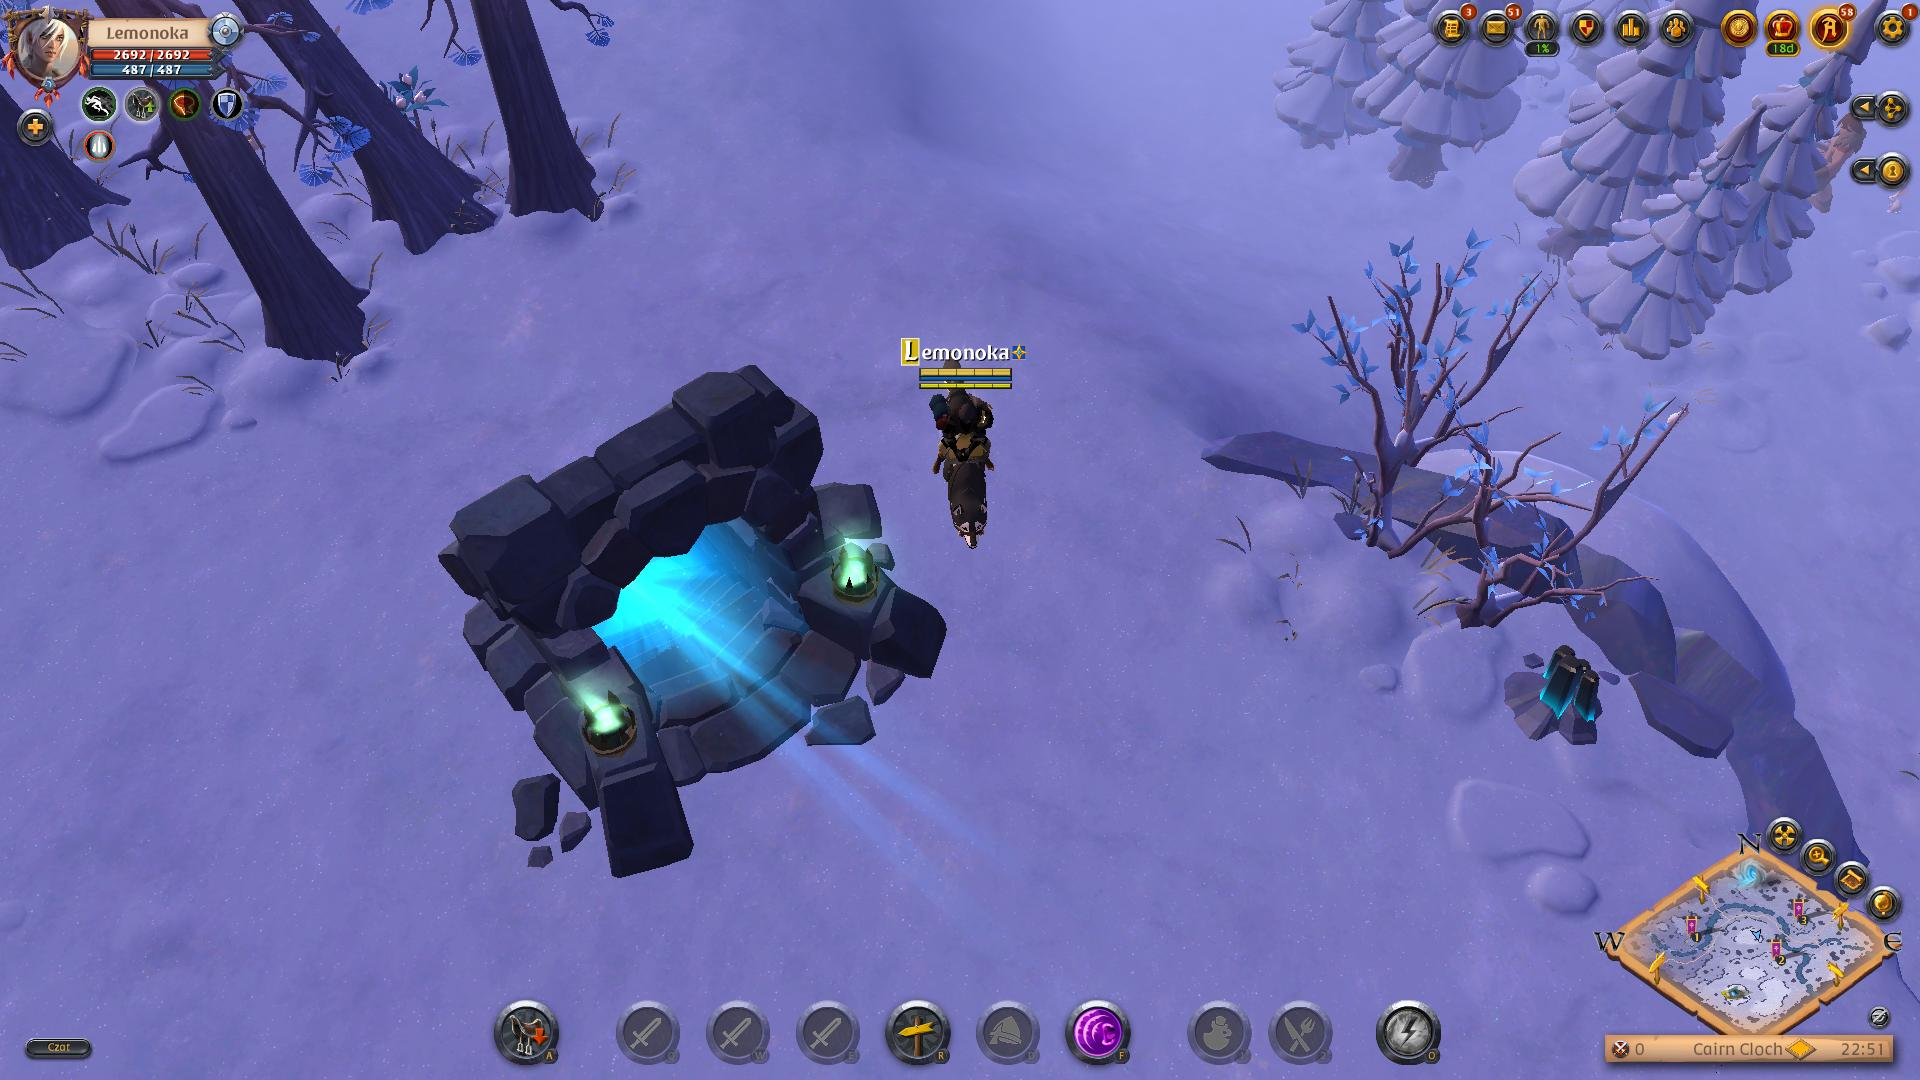ore tier 4: (1515, 641, 1606, 757)
